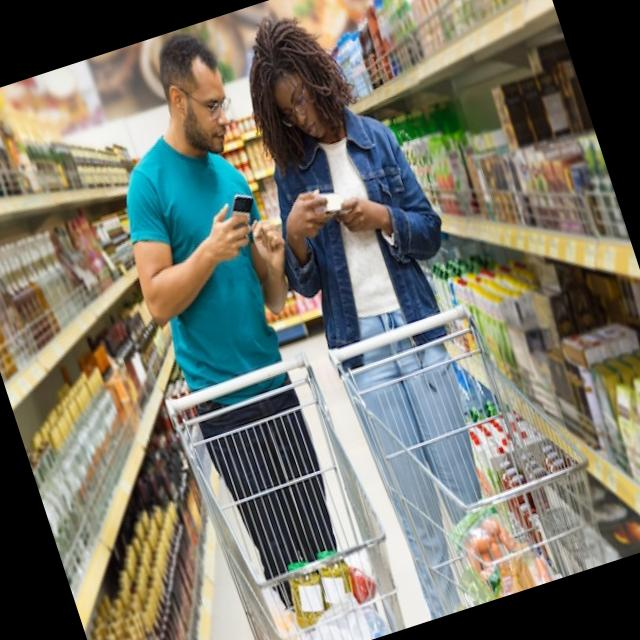Person: (208, 0, 556, 630), (69, 21, 382, 588)
